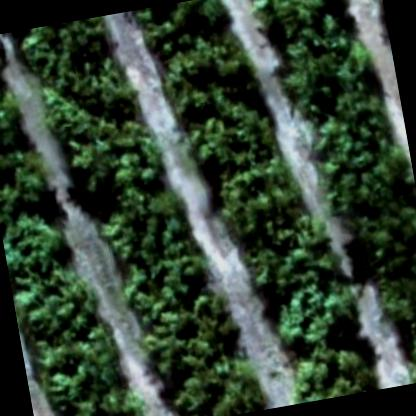Canopy-Citrus: (137, 292, 251, 404), (315, 150, 415, 251), (171, 81, 281, 170), (62, 112, 168, 201), (298, 91, 402, 178), (266, 267, 370, 353), (96, 183, 199, 268), (27, 330, 130, 415), (280, 33, 382, 117), (234, 209, 339, 290), (9, 258, 105, 345), (115, 248, 220, 326), (44, 50, 141, 132), (152, 27, 252, 101), (212, 155, 309, 231), (15, 15, 121, 83), (282, 336, 383, 404), (248, 0, 360, 55), (128, 0, 238, 52), (0, 203, 73, 278), (356, 229, 415, 318), (171, 372, 278, 415), (0, 146, 52, 220), (374, 302, 415, 363), (52, 391, 156, 415), (0, 93, 27, 156), (0, 34, 14, 114), (395, 339, 415, 385)
